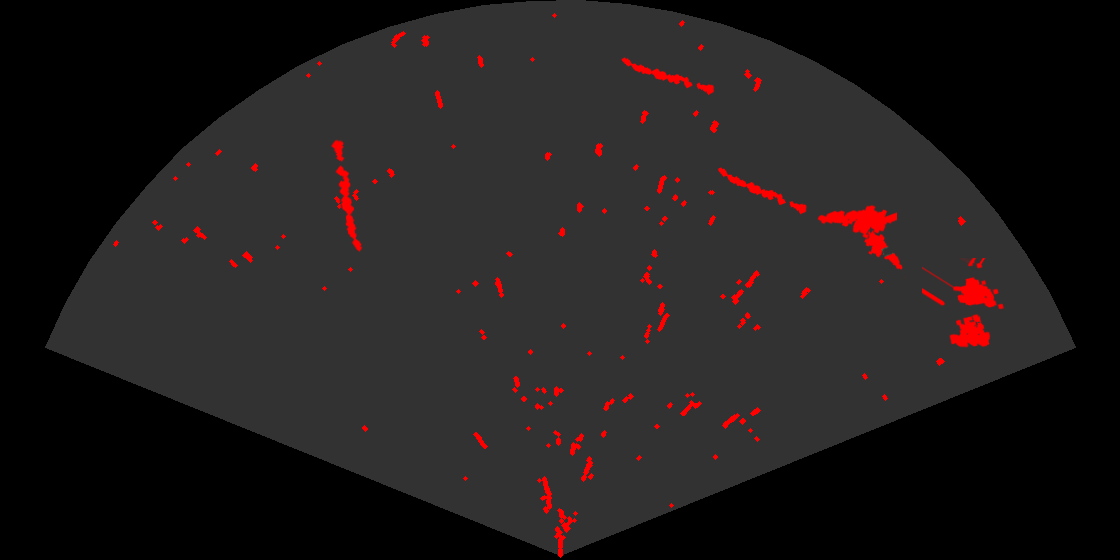cage: (922, 258, 1006, 349)
chain: (716, 166, 809, 216), (329, 137, 364, 253), (620, 56, 717, 97)
frogman: (816, 203, 897, 240), (858, 221, 906, 280)
